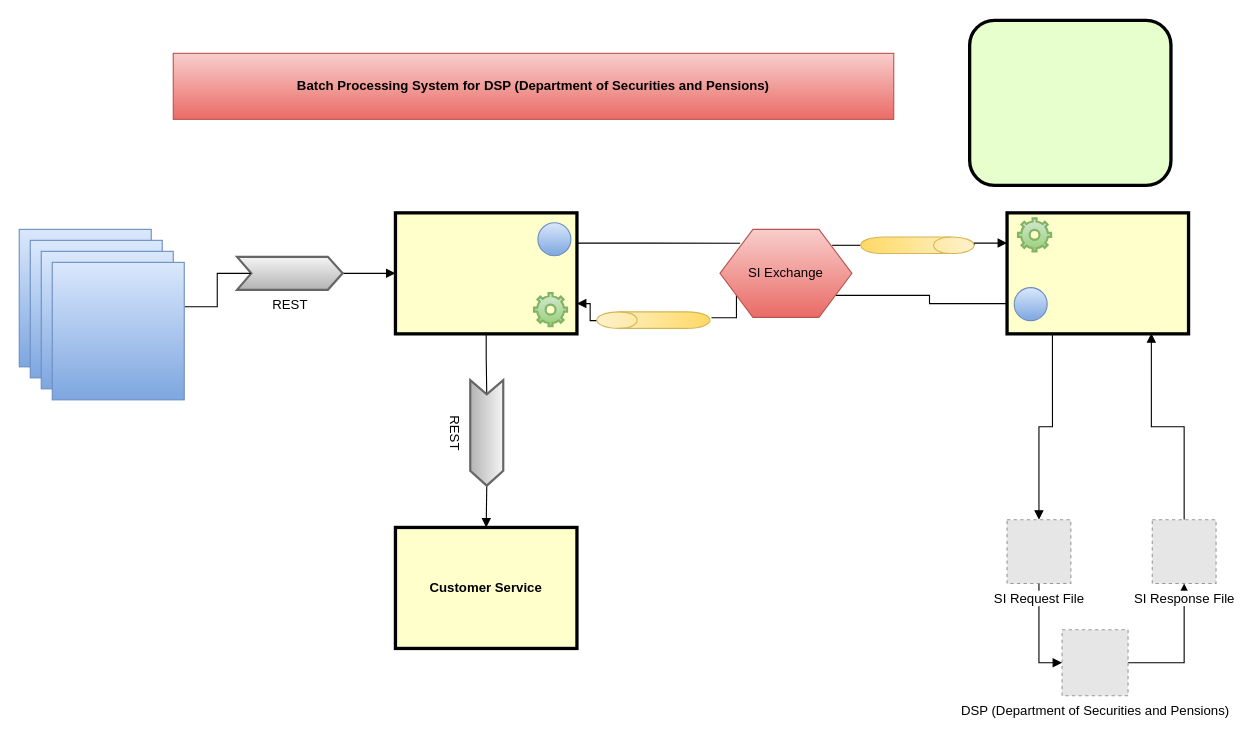
Some shapes in this 1253 by 738 pixel diagram are drawn without their labels. Grey dashed boxes stand in for pictures. Each missing label, with the box of its shape:
Legend System Analysis: (967, 18, 1172, 186)
Payment Verification Systems (Existing): (51, 261, 184, 400)
Social Insurance Verification Service: (1005, 211, 1190, 335)
Social Insurance Workflow Service: (393, 211, 578, 335)
